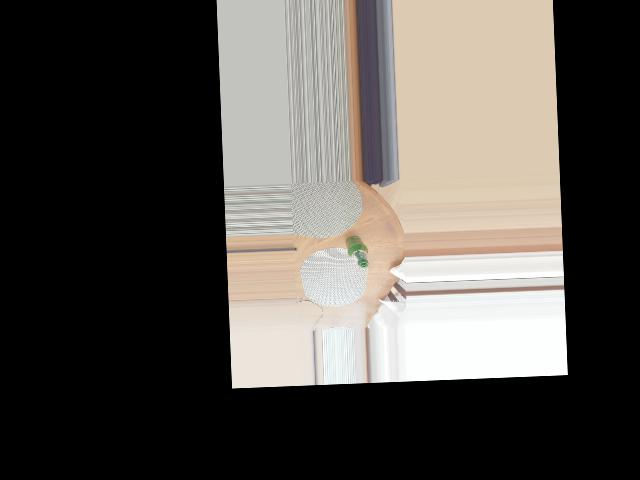beer: (346, 234, 369, 268)
